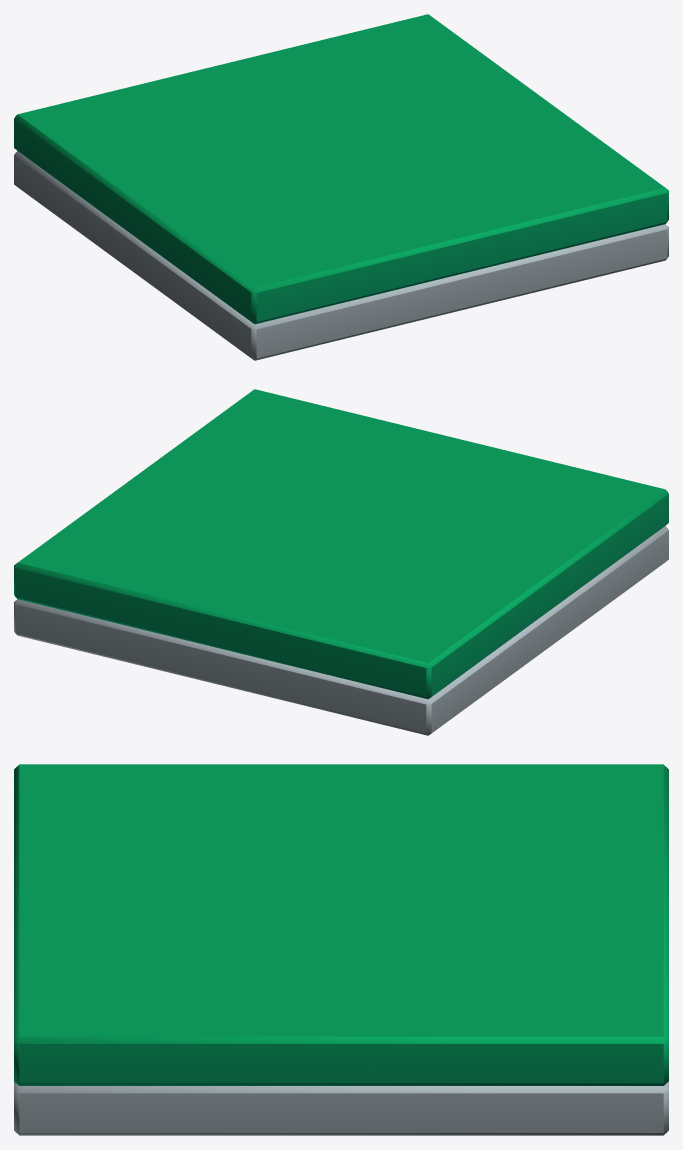
File: platform_6x6x1_green.glb
3 renders of one model, top to bottom at view 1: azimuth 30°, elevation 25°; view 2: azimuth 150°, elevation 25°; view 3: azimuth 270°, elevation 25°, orthographic. The views are drawn at different scales.
Visible parts, largest first — view 1: platform_6x6x1_green; view 2: platform_6x6x1_green; view 3: platform_6x6x1_green.
Boxes of the visible parts, bbox=[...] form: platform_6x6x1_green: bbox=[14, 14, 668, 360]; platform_6x6x1_green: bbox=[14, 389, 668, 735]; platform_6x6x1_green: bbox=[14, 764, 668, 1135].
Size of the model in its own units: 6 by 1 by 6.
1 material, 1 textured.
